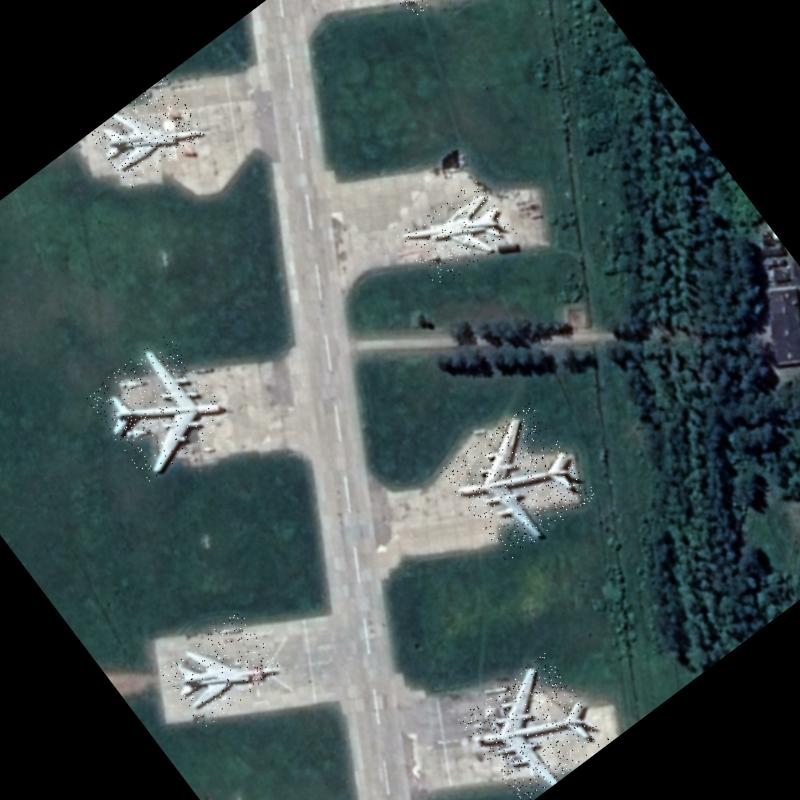A12: (159, 610, 284, 730), (88, 76, 209, 192), (397, 177, 517, 291)
A17: (438, 403, 598, 562), (457, 652, 611, 800), (82, 332, 233, 482)
